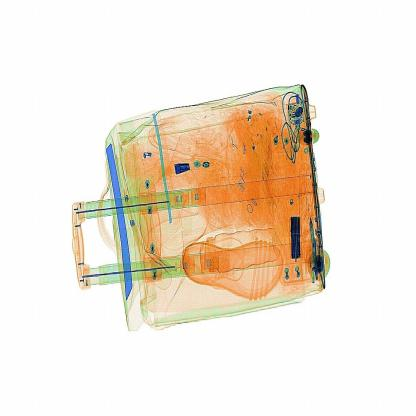scissors: (280, 202, 306, 265)
